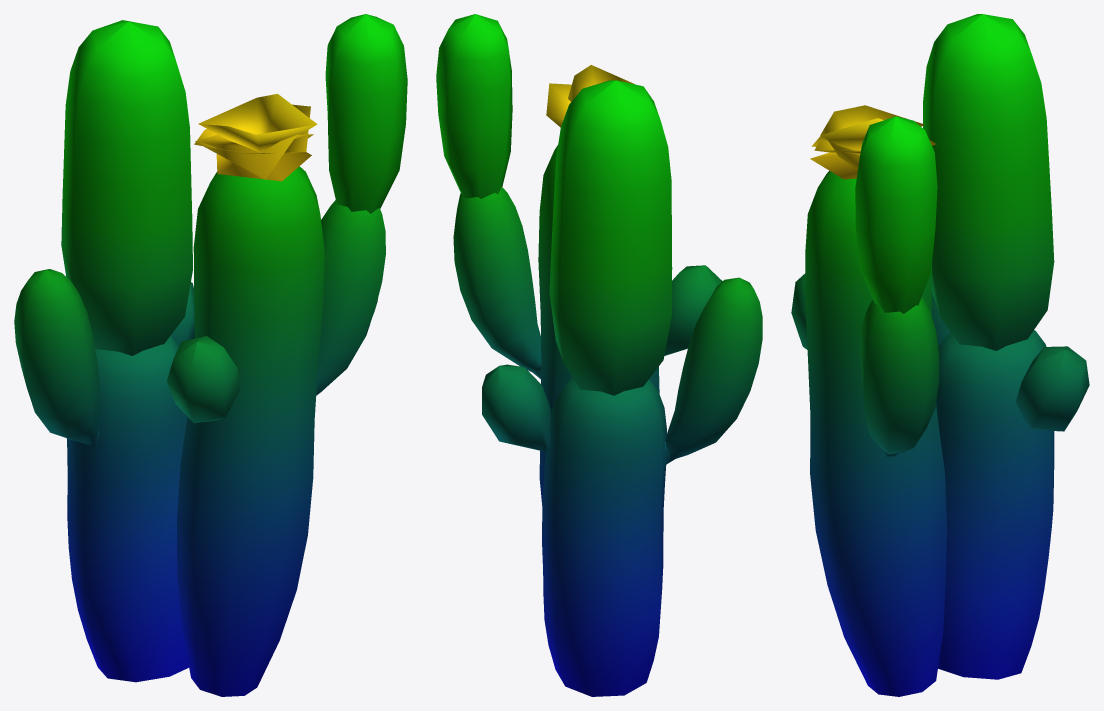
The model's file is Grocactus5.fbx.
The picture shows the model from 3 angles, left to right: view 1: azimuth 30°, elevation 25°; view 2: azimuth 150°, elevation 25°; view 3: azimuth 270°, elevation 25°; orthographic projection. The views are drawn at different scales.
Parts seen in each view (by area): view 1: Grocactus5_LOD0; view 2: Grocactus5_LOD0; view 3: Grocactus5_LOD0.
Part boxes in pixels (x1,y1,x2,y2): Grocactus5_LOD0: (14,14,407,696); Grocactus5_LOD0: (436,14,762,696); Grocactus5_LOD0: (791,14,1089,696).
Size of what is drawn, in the model's own units: 237 by 409 by 172.
